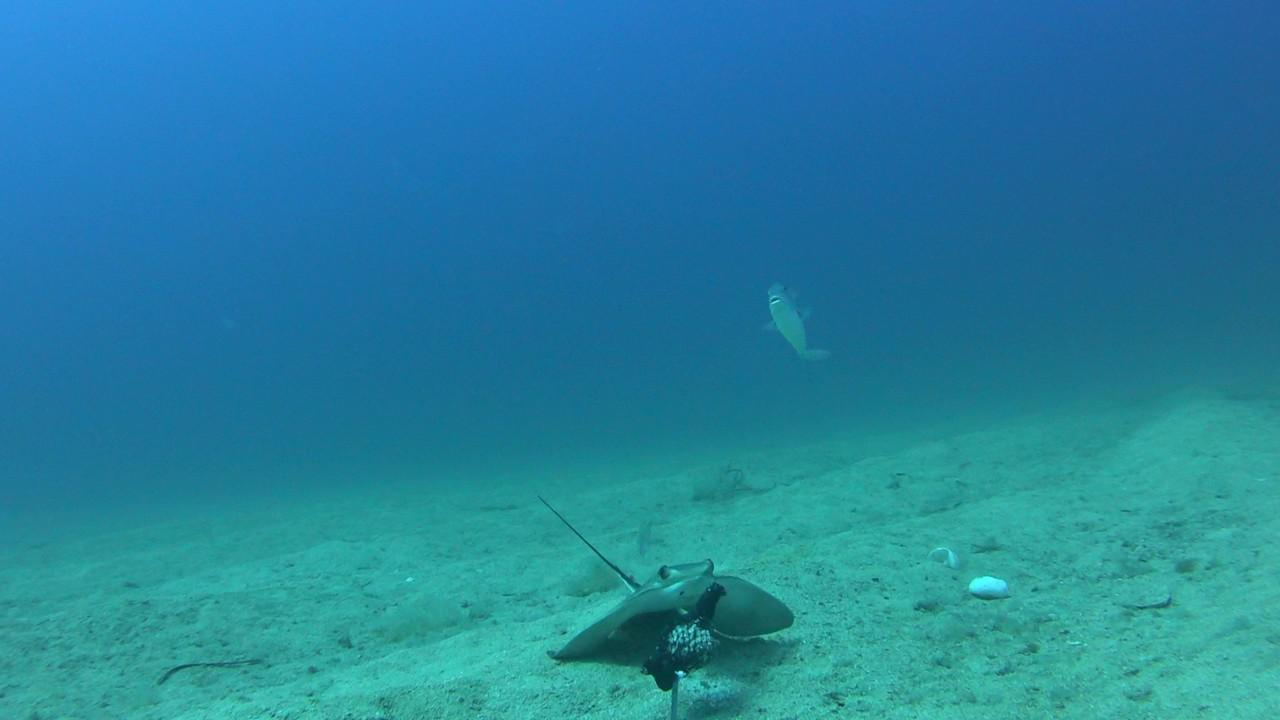balistes: (758, 280, 838, 370)
myliobatis: (519, 487, 830, 659)
